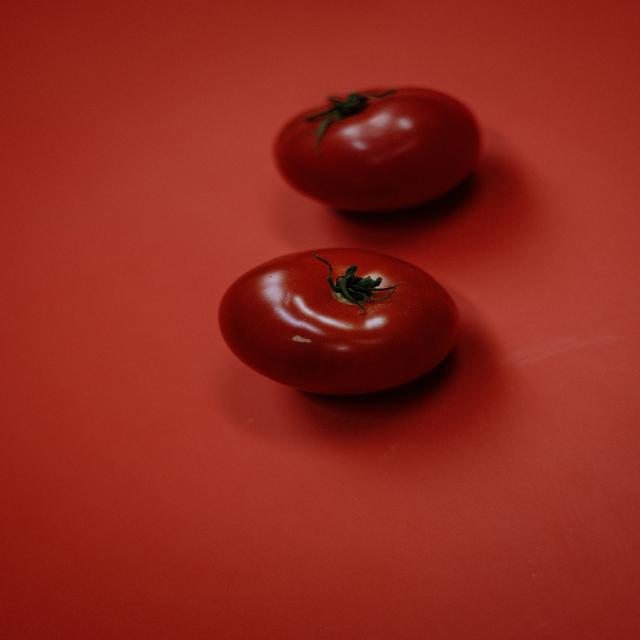Tomato: (231, 243, 474, 399)
